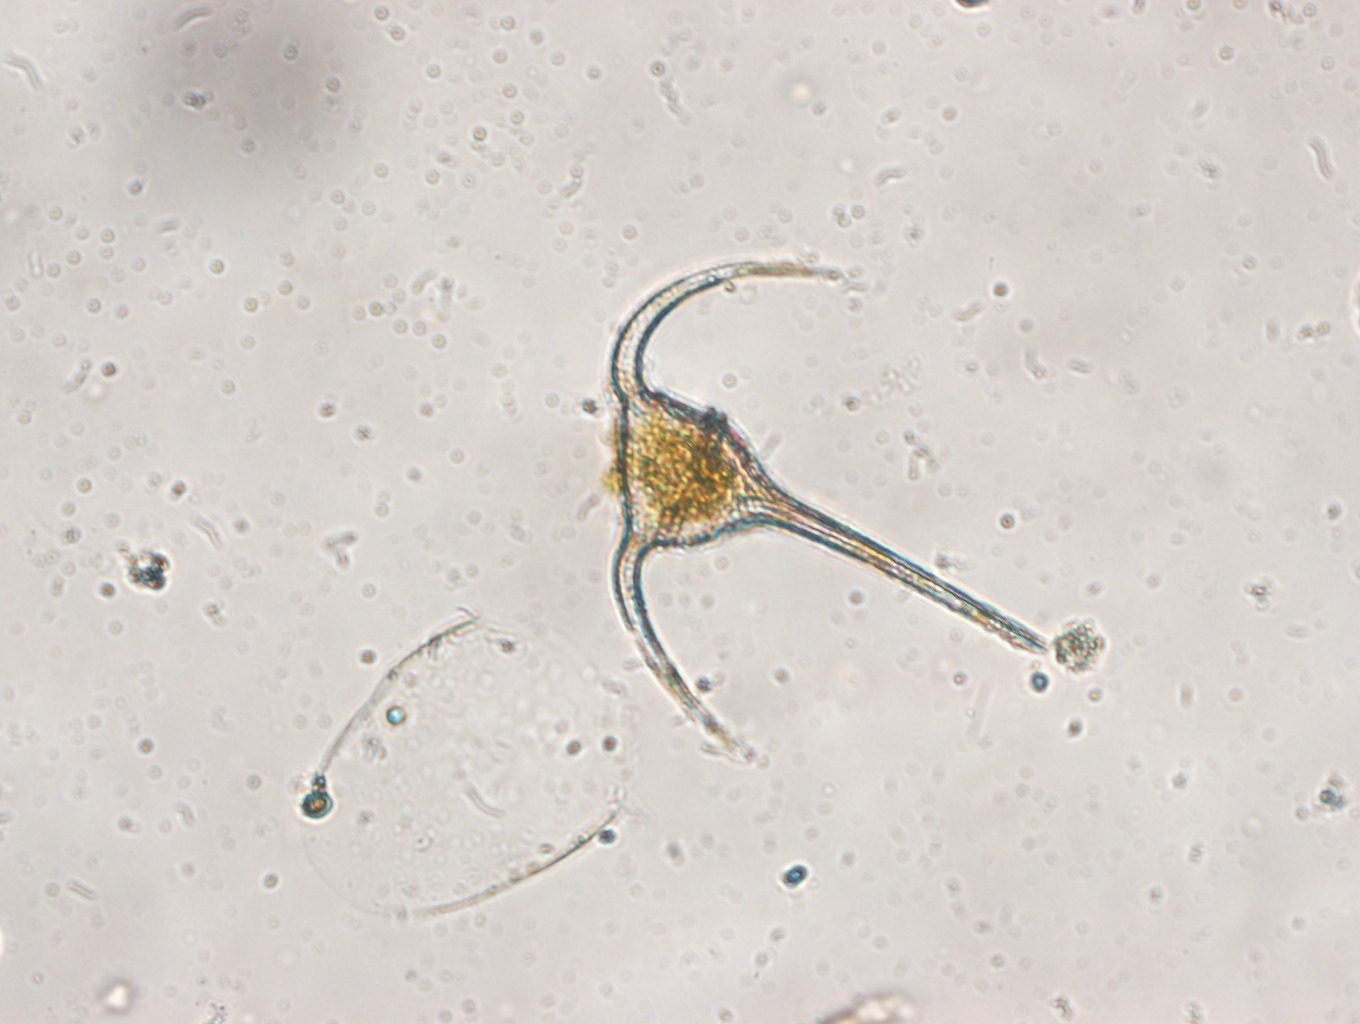ceratium trichoceros: (595, 237, 1049, 756)
